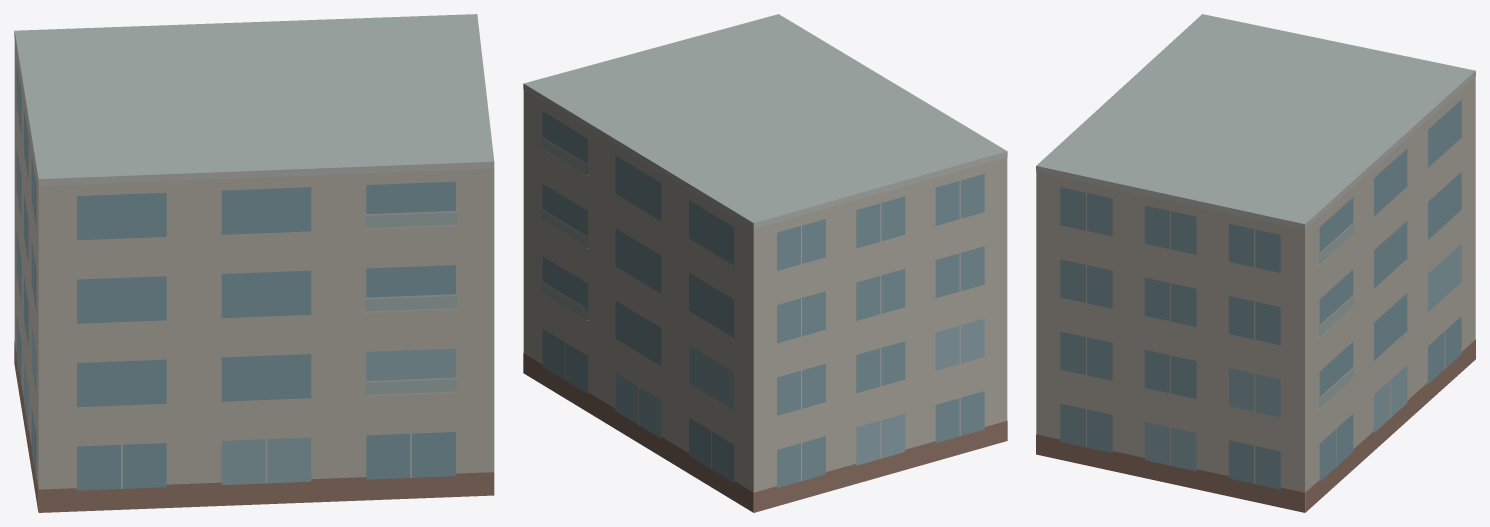
Rendered from survey-upis-32535334.glb.
3 renders of one model, left to right at view 1: azimuth 30°, elevation 25°; view 2: azimuth 150°, elevation 25°; view 3: azimuth 270°, elevation 25°, orthographic. The views are drawn at different scales.
Visible parts, largest first — view 1: survey-upis-32535334.tmp; view 2: survey-upis-32535334.tmp; view 3: survey-upis-32535334.tmp.
Boxes of the visible parts, <box> form: survey-upis-32535334.tmp: <box>14,14,494,512</box>; survey-upis-32535334.tmp: <box>523,14,1007,512</box>; survey-upis-32535334.tmp: <box>1036,14,1475,512</box>.
Bounding box in the file's own units: 18.52 × 11.85 × 16.37.
